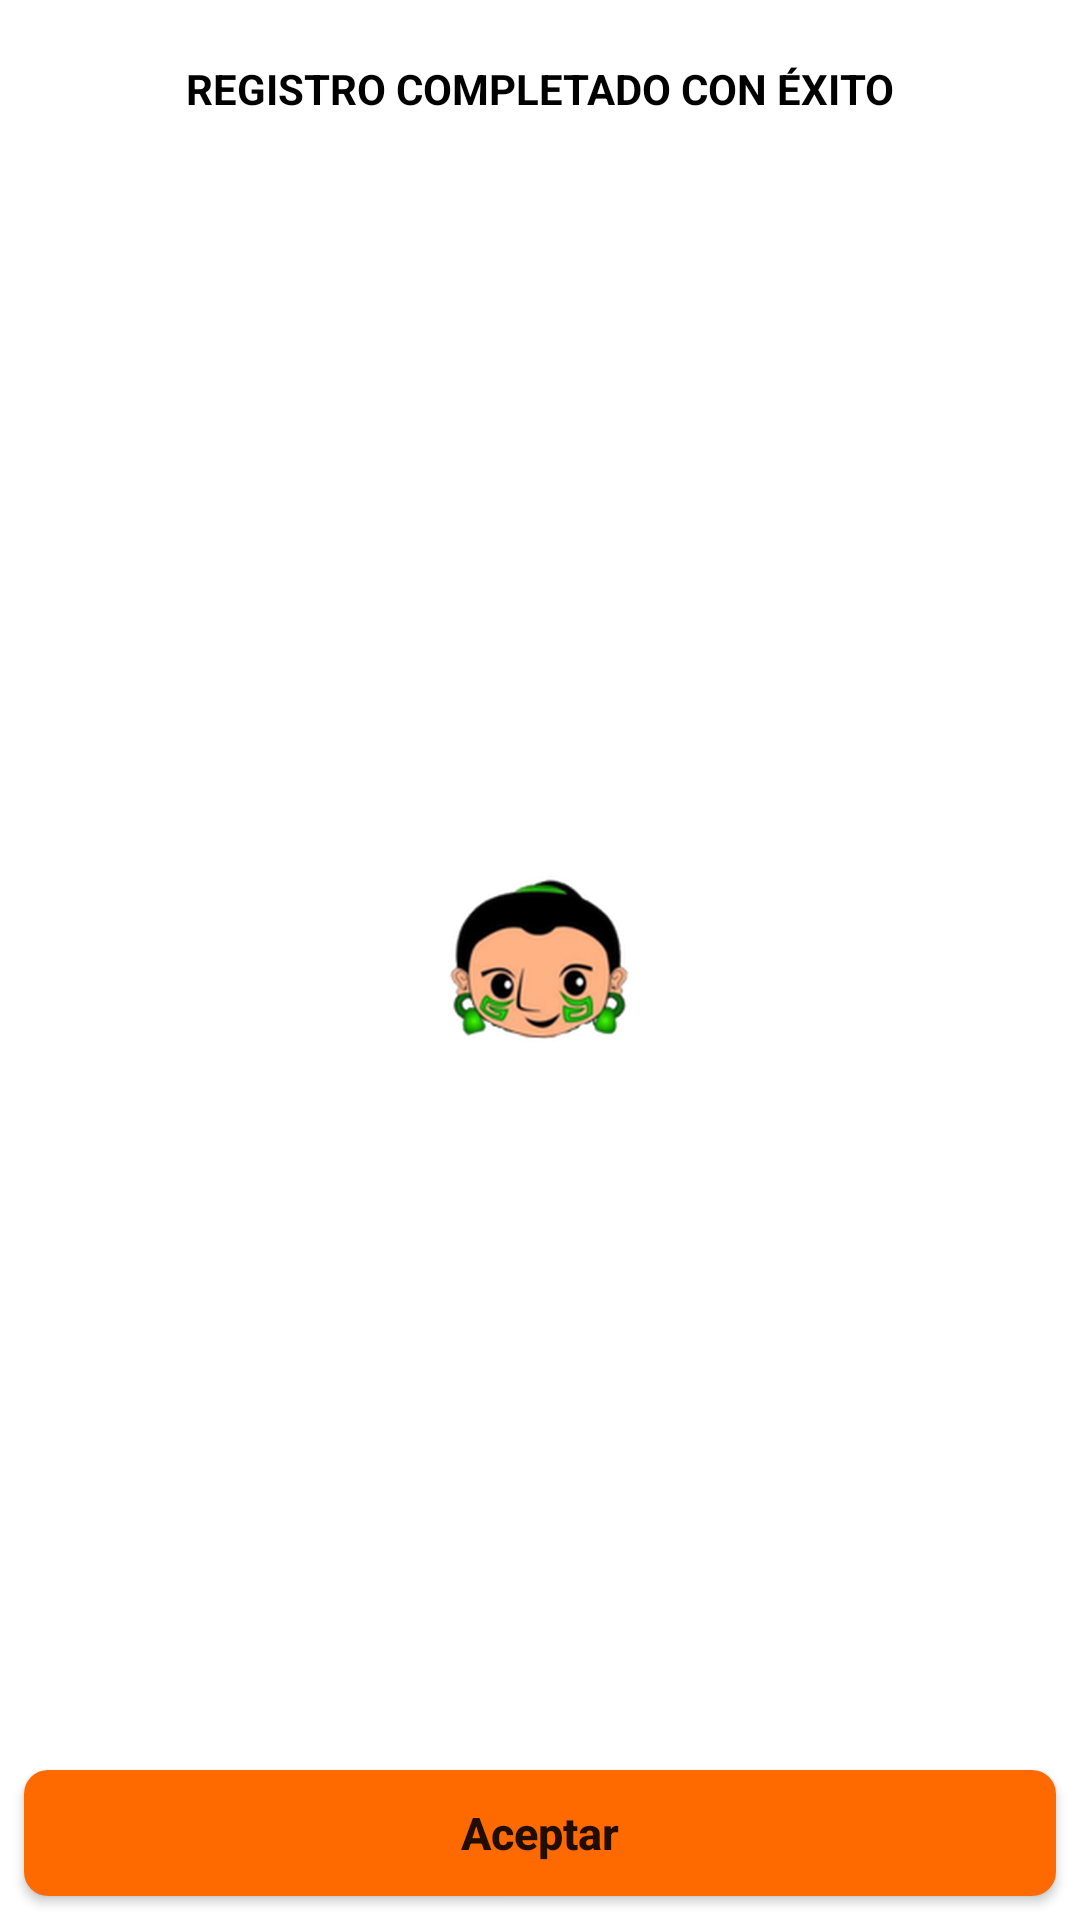

Icon bounding boxes for this 1080*1920 phone screenshot, format (x1, y1, x2, y2):
aluxes: (450, 879, 628, 1039)
